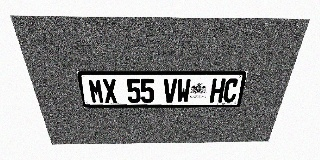5: (126, 79, 141, 103), (141, 79, 154, 103)
C: (222, 79, 239, 102)
H: (209, 79, 226, 102)
M: (87, 79, 105, 103)
V: (163, 79, 177, 103)
W: (176, 79, 191, 103)
X: (102, 79, 118, 103)
